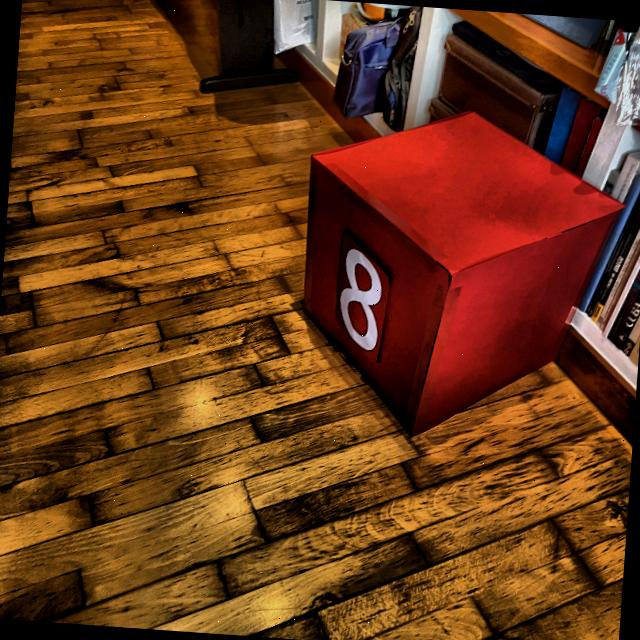eight: (334, 245, 388, 350)
red box: (290, 98, 625, 451)
